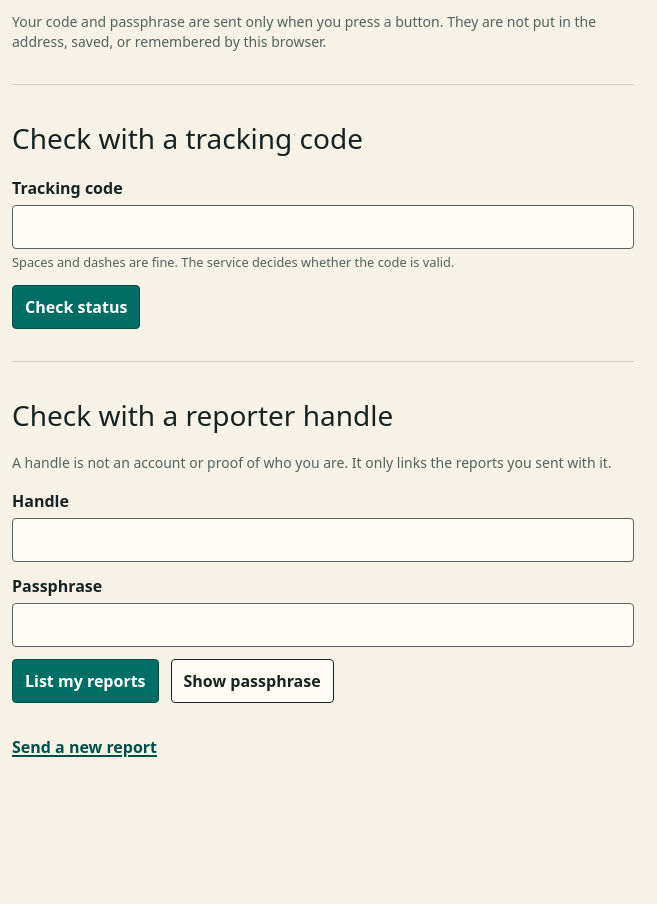
it: TrackPanel › lists reports by handle, clears the passphrase, and treats a wrong or missing handle alike
Click the button "List my reports".
click(85, 681)  # box [12,659,158,703]
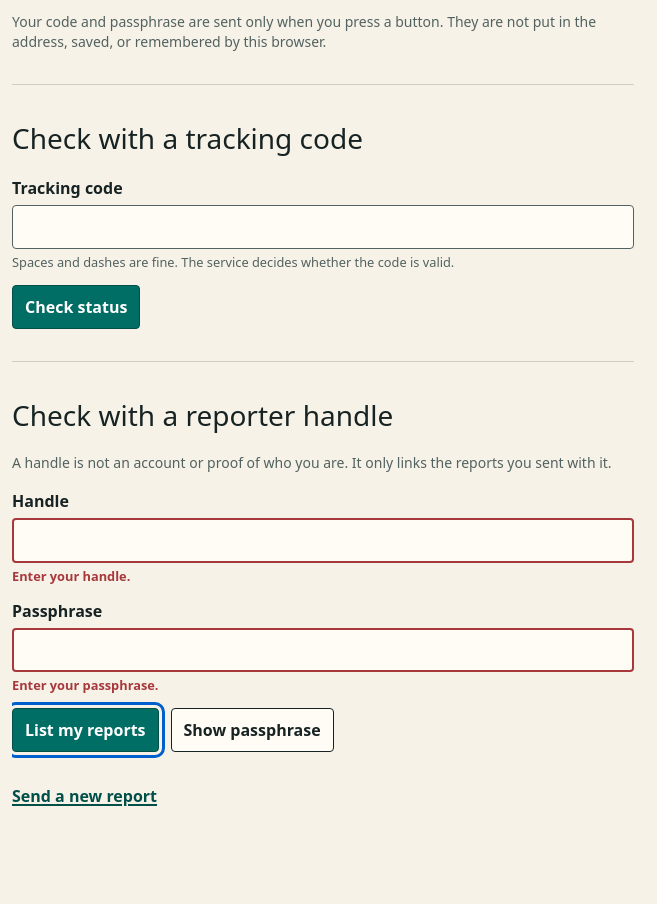
Result: the text "Enter your handle." is shown at [12,567,130,585]
Type "some-handle" into the field labelled "Handle".
click(323, 541); type("some-handle")  # box [12,518,634,563]
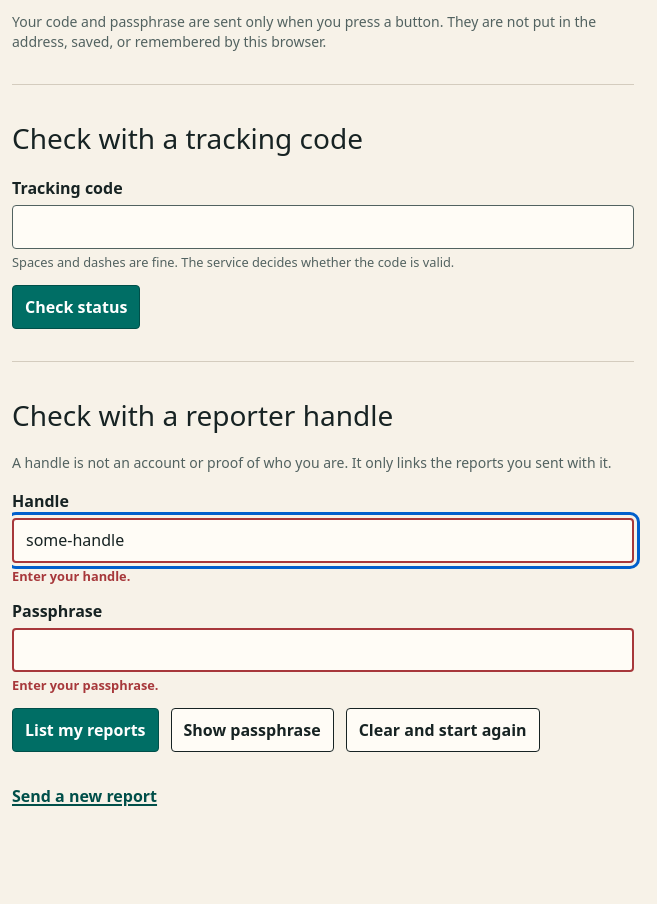
Type "one two three" into the password field labelled "Passphrase".
click(323, 650); type("one two three")  # box [12,628,634,672]
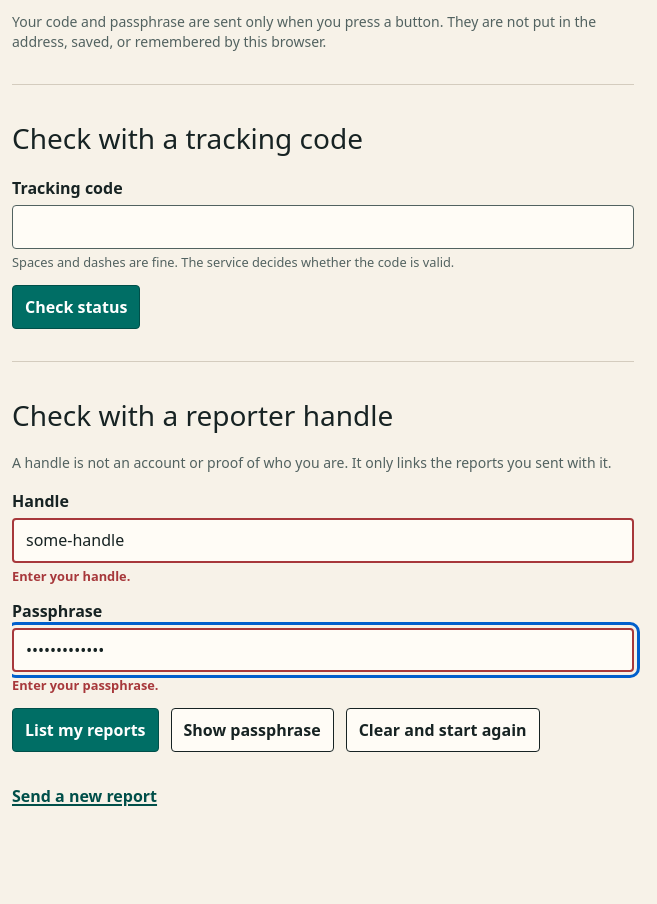
Click the button "List my reports".
click(85, 730)  # box [12,708,158,752]
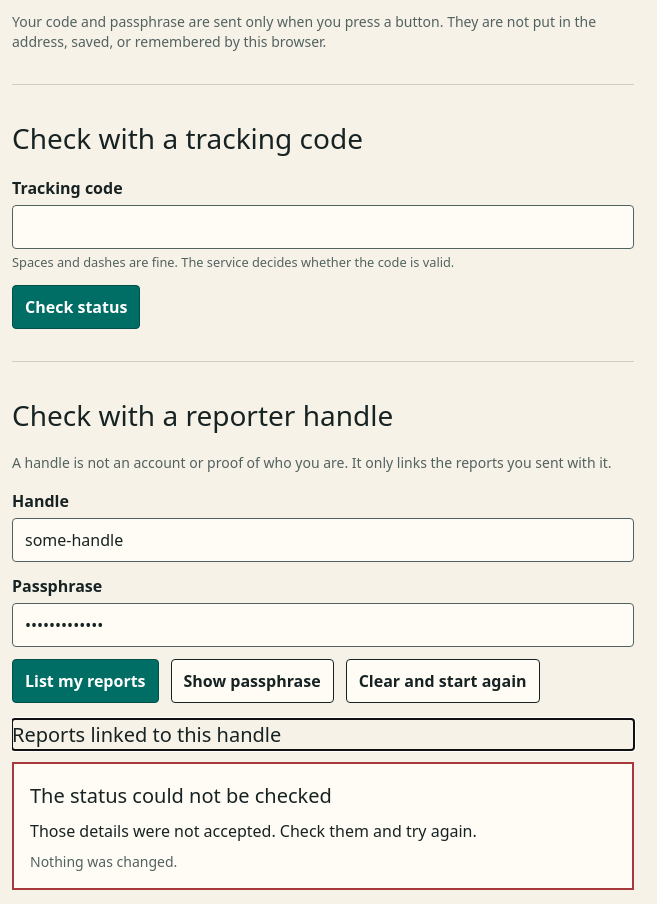
Result: the text "Those details were not accepted. Check them and try again." is shown at [30,820,477,842]
Click the button "List my reports".
click(85, 681)  # box [12,659,158,703]
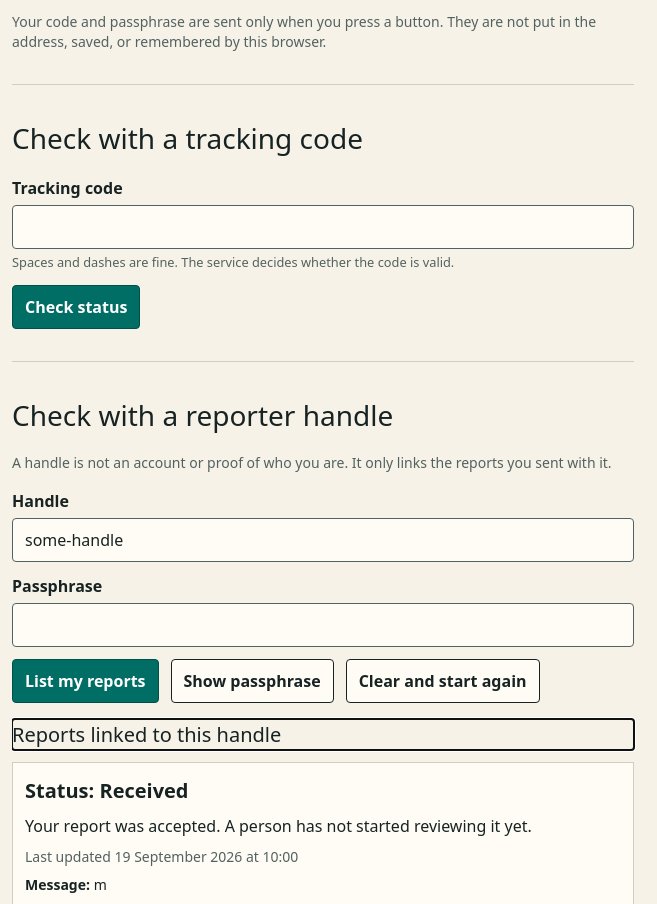
Result: the text "Received" is shown at [100,777,189,804]
Result: the password field labelled "Passphrase" is empty at [12,603,634,647]
